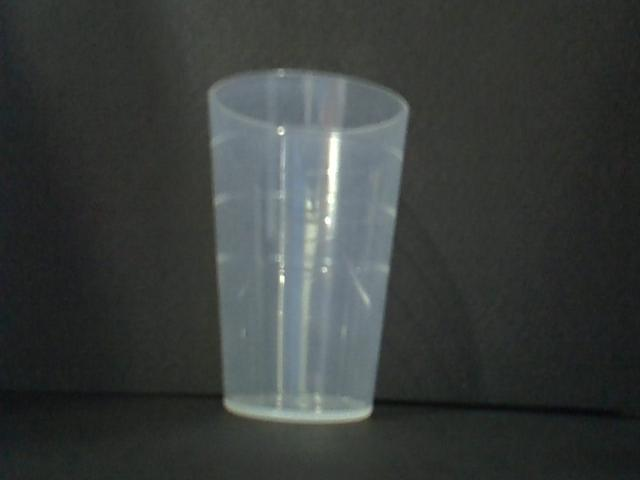cup: (205, 71, 407, 423)
